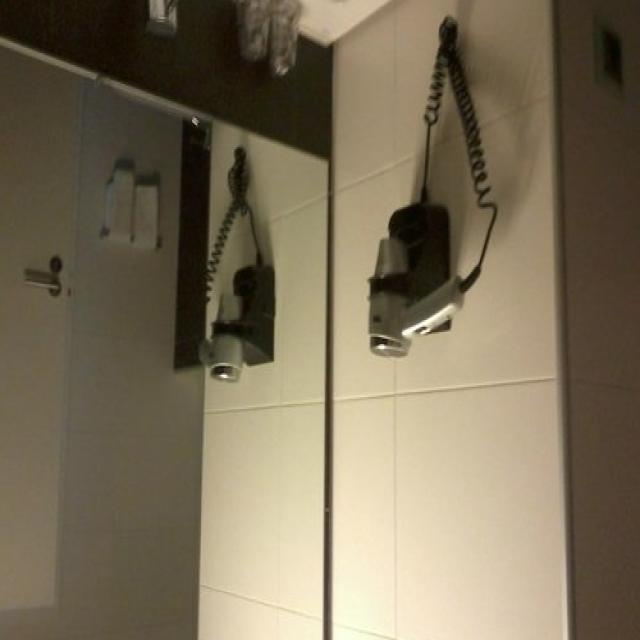dryer: (363, 234, 483, 368)
